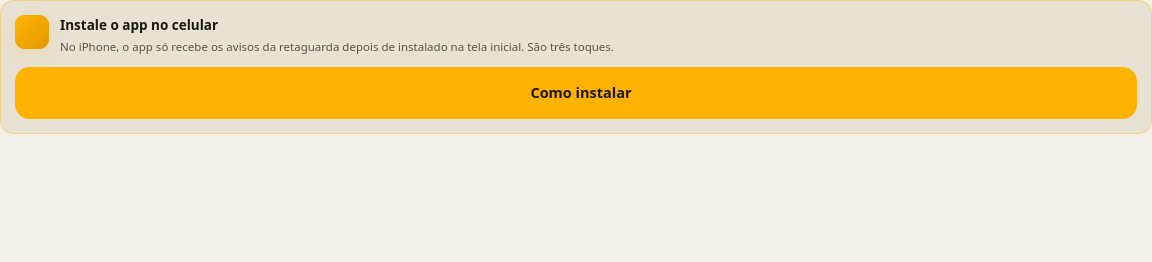
Scenario: ConviteInstalacao › no iPhone mostra o passo a passo, sem prometer botão que o Safari não tem
The image size is (1152, 262).
What coordinates should you click on to do the following:
click the button "Como instalar"
I would click on:
 (576, 93)
Its box is [15,67,1137,119].
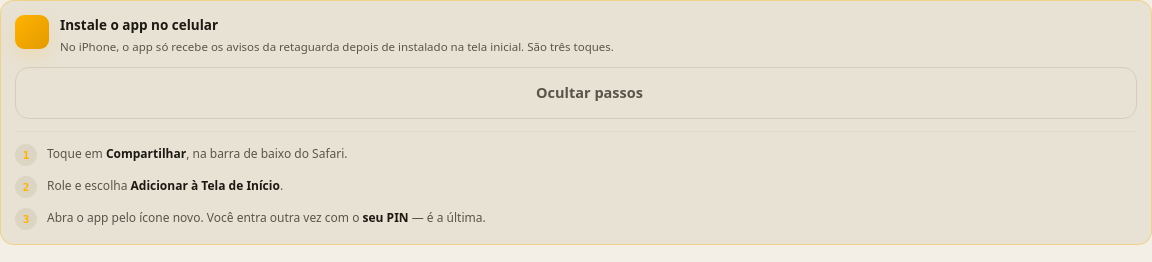
Expected: the text "Adicionar à Tela de Início" is shown, [130,177,280,194]
Expected: the text "seu PIN" is shown, [363,209,409,226]
